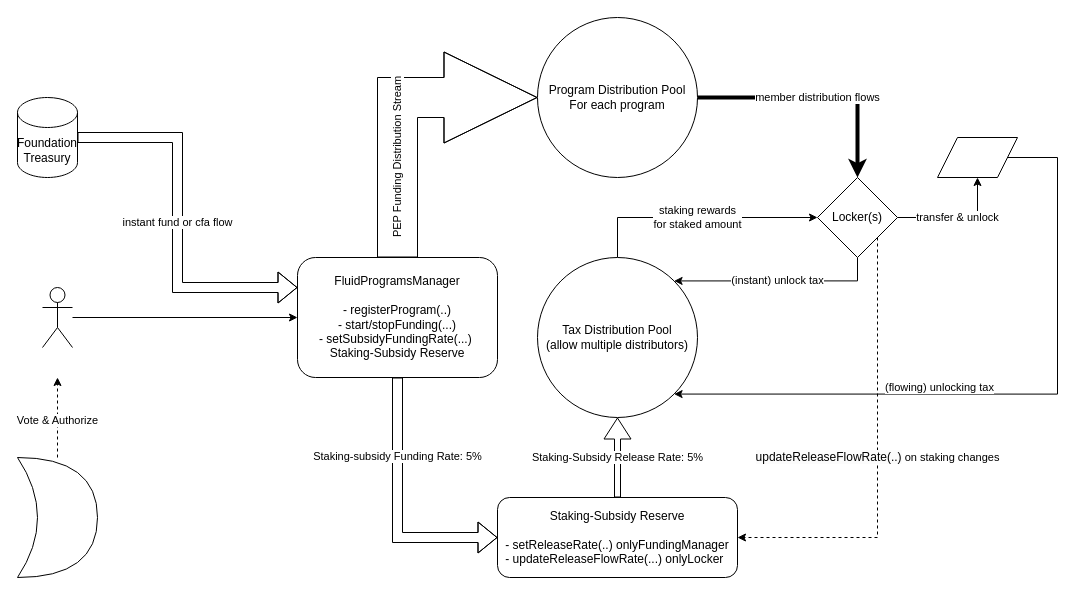
Some shapes in this 1083 by 595 pixel diagram are drawn without their labels. Each missing label, with the centre of its shape:
"DAO" belongs at [57,517].
"DAO Multi-sig" belongs at [57,317].
"Fontaine" belongs at [977,157].
